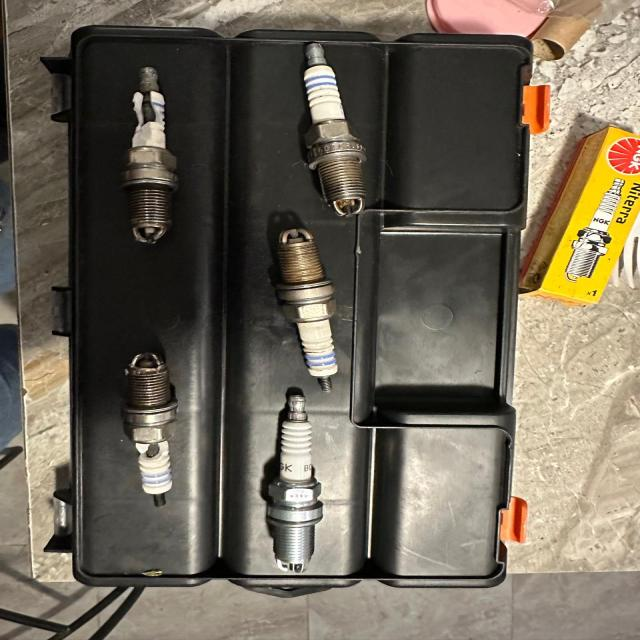damaged_spark-plug: (115, 64, 184, 243), (119, 347, 193, 506)
spark-plug: (290, 37, 370, 218), (256, 392, 320, 577), (276, 228, 341, 394)
